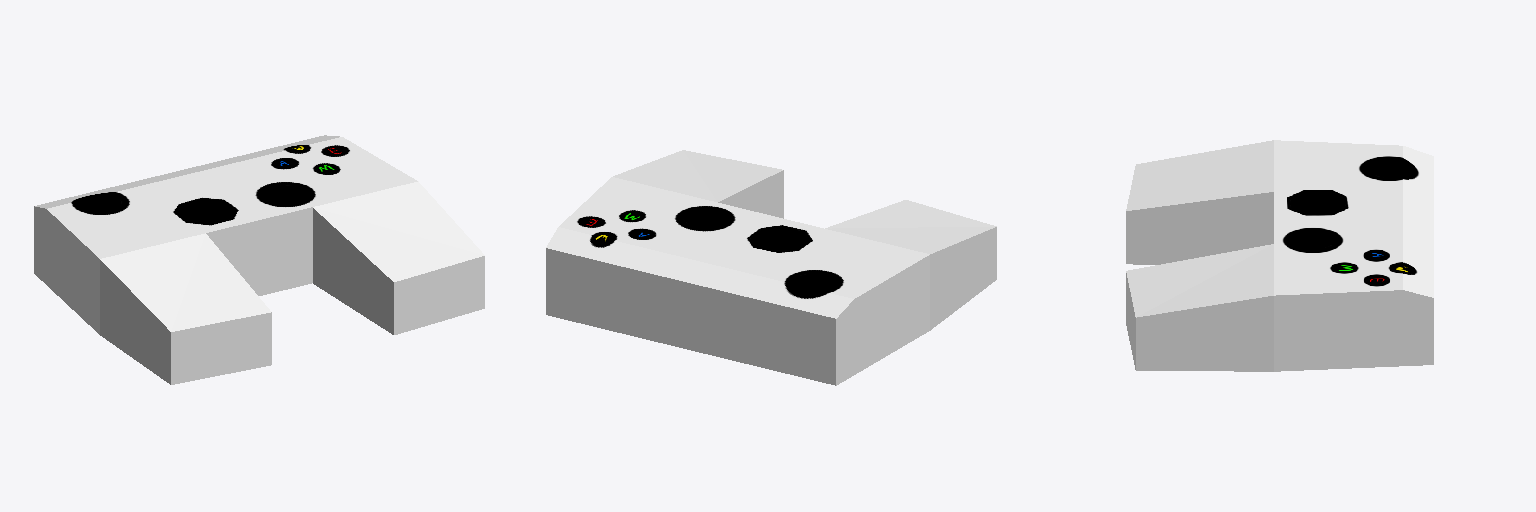
3 renders of one model, left to right at view 1: azimuth 30°, elevation 25°; view 2: azimuth 150°, elevation 25°; view 3: azimuth 270°, elevation 25°, orthographic.
Visible parts, largest first — view 1: Gamepad; view 2: Gamepad; view 3: Gamepad.
Boxes of the visible parts, box(x1,y1,x2,y2) form: Gamepad: box(34, 135, 484, 384); Gamepad: box(546, 150, 996, 385); Gamepad: box(1126, 140, 1433, 371).
Bounding box in the file's own units: 2 × 0.4568 × 1.67.
Materials: 1 (1 with a texture image).